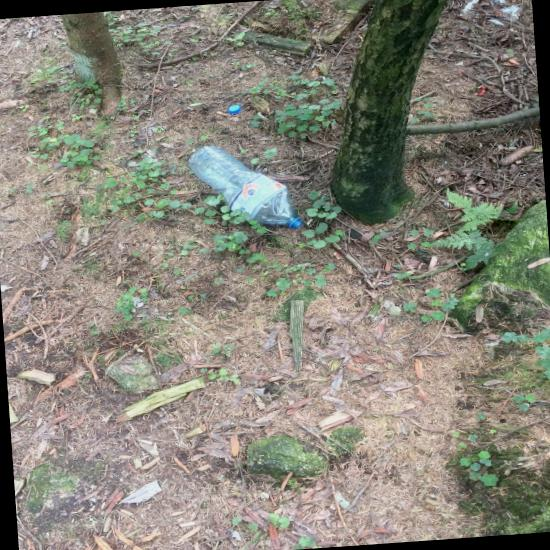Clear plastic bottle: (188, 145, 303, 229)
Plastic bottle cap: (228, 104, 241, 113)
